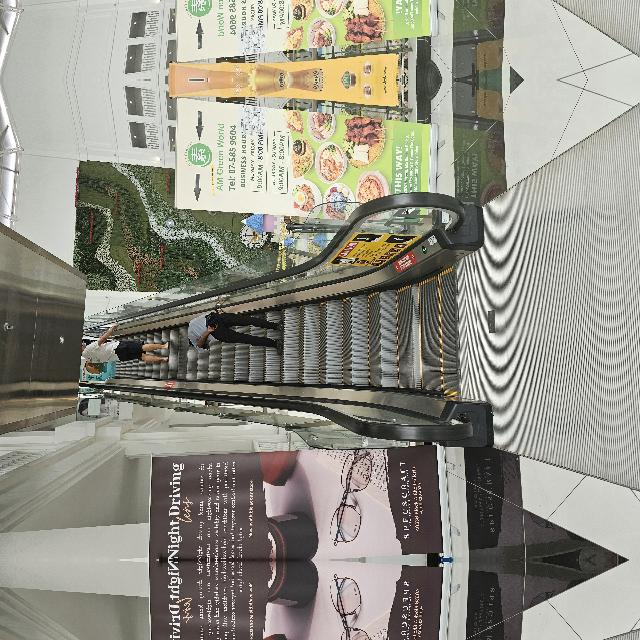obstacle: (334, 237, 480, 539), (0, 223, 111, 559), (0, 561, 111, 640), (334, 581, 480, 640)
person: (204, 267, 250, 363), (196, 160, 238, 250)
stair: (154, 188, 286, 544), (154, 575, 286, 640)
